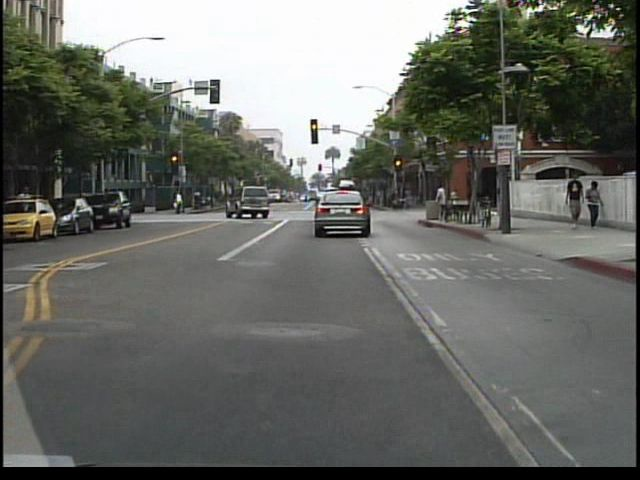person: (563, 172, 588, 231), (584, 178, 608, 232), (436, 180, 457, 223), (173, 186, 189, 218)
